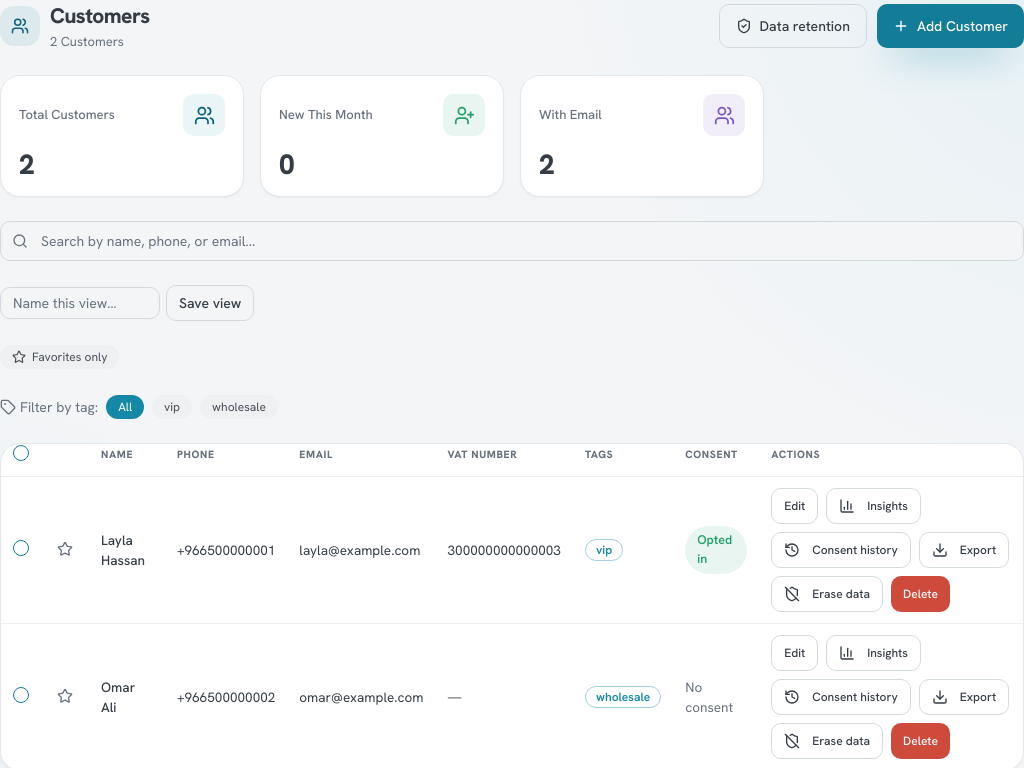
Test: CustomerManagement entity favorites (#273) › stars a customer and filters the book to favorites only
Expected: the text "Layla Hassan" is shown, 89,476 -> 165,623
Note: Star Layla via her row's favorite toggle.
Click the button named "add to favorites: Layla Hassan": (65, 549) 53,537 -> 77,561
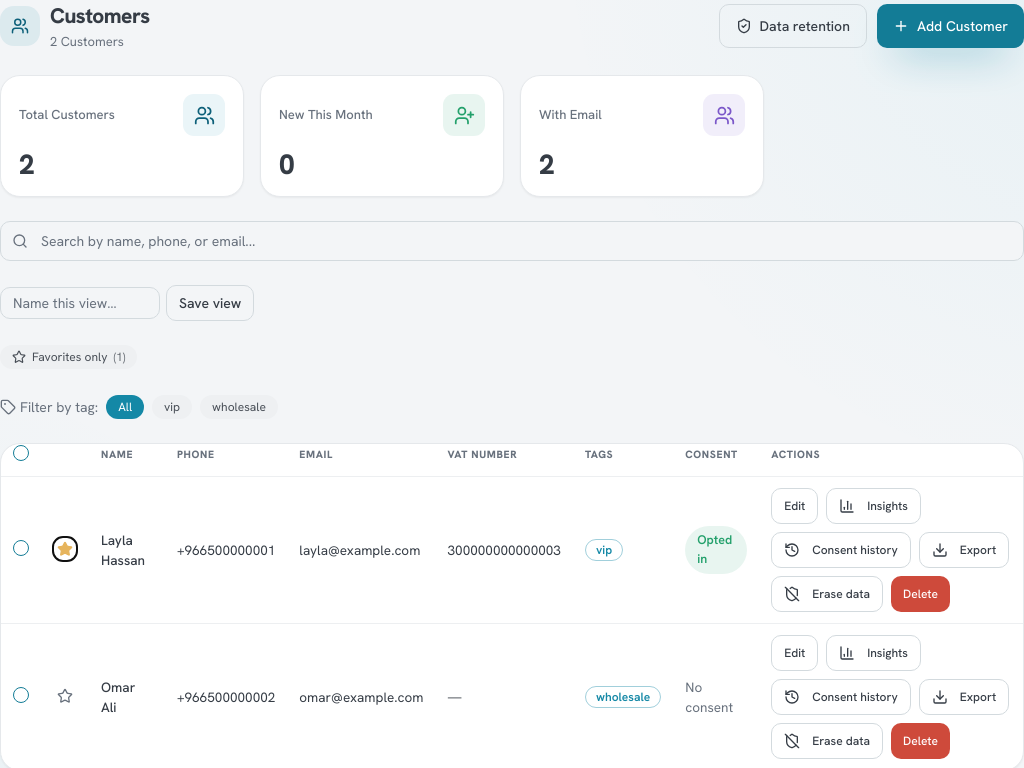
Result: the button named "remove from favorites: Layla Hassan" is pressed at 53,537 -> 77,561
Note: Flip on "Favorites only" — Omar (unstarred) drops out.
Click the button "Favorites only (1)": (69, 357) 0,345 -> 138,369
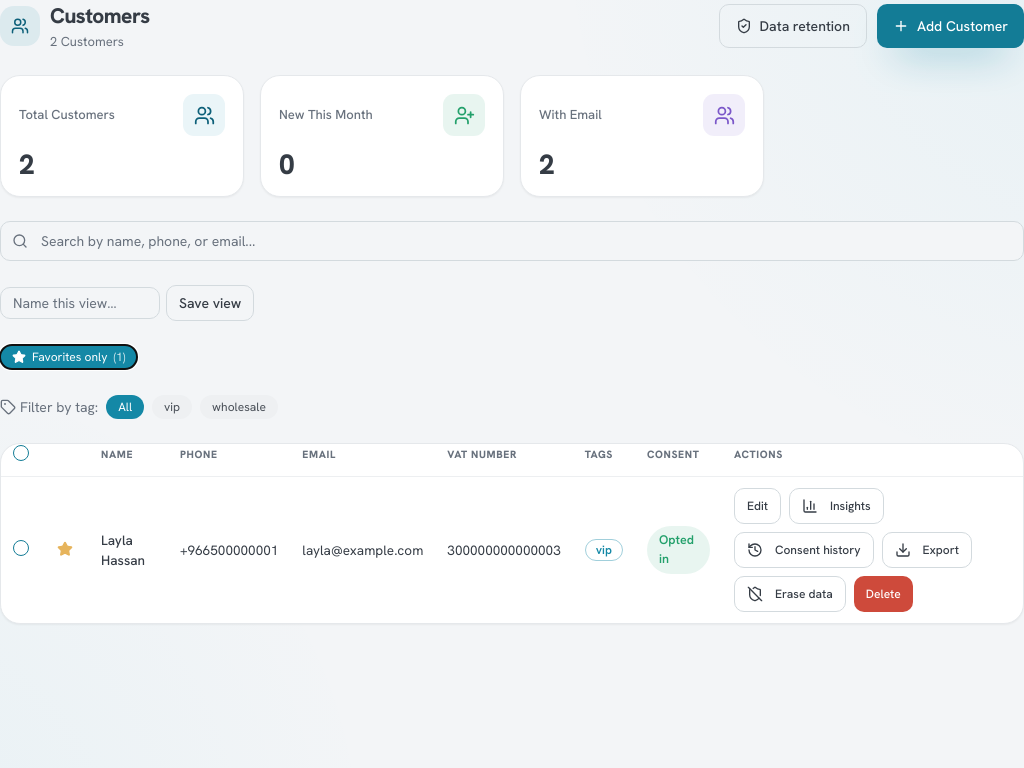
Expected: the text "Layla Hassan" is shown, 89,476 -> 168,623
Note: Flip it back off — the whole book returns.
Click the button "Favorites only (1)": (69, 357) 0,345 -> 138,369
(page scrolled)
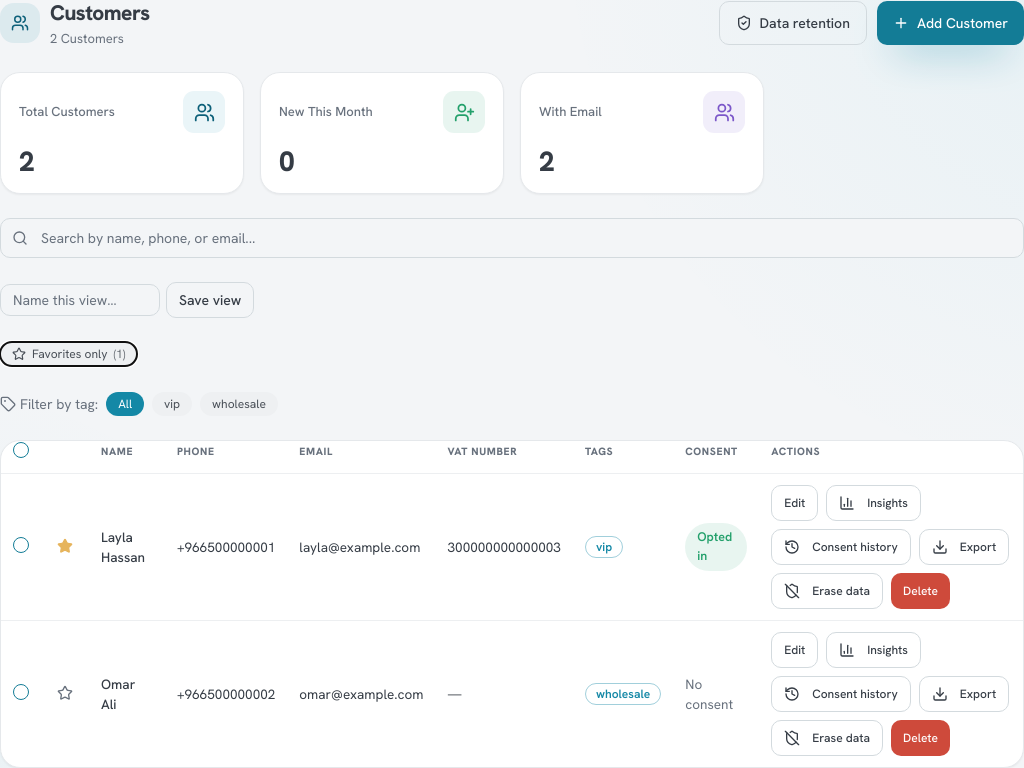
Result: the text "Omar Ali" is shown at 89,620 -> 165,767
